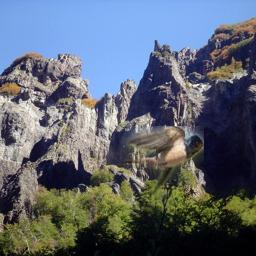Swallow: (91, 126, 204, 196)
